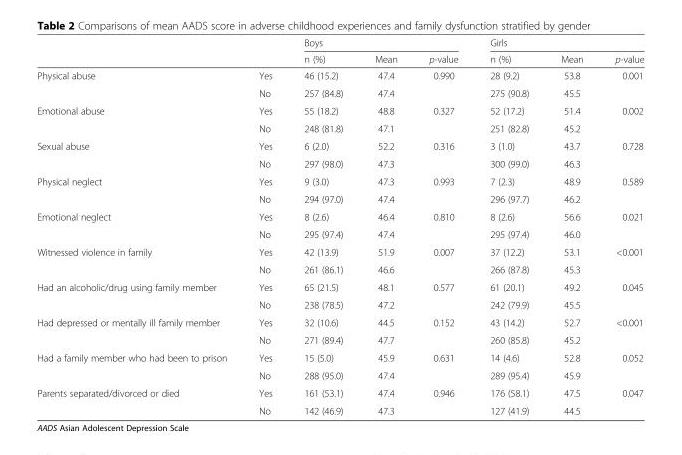table: (36, 36, 643, 415)
table column: (36, 36, 242, 415), (287, 36, 358, 415), (473, 36, 544, 415), (412, 36, 473, 415), (358, 36, 412, 415), (544, 36, 598, 415), (242, 36, 287, 415), (598, 36, 643, 415)
table column header: (36, 36, 643, 66)
table row: (36, 66, 643, 84), (36, 101, 643, 119), (36, 136, 643, 154), (36, 154, 643, 172), (36, 189, 643, 207), (36, 207, 643, 225), (36, 242, 643, 260), (36, 260, 643, 278), (36, 295, 643, 313), (36, 330, 643, 348), (36, 348, 643, 366), (36, 383, 643, 401), (36, 84, 643, 101), (36, 119, 643, 136), (36, 172, 643, 189), (36, 225, 643, 242), (36, 278, 643, 295), (36, 313, 643, 330), (36, 366, 643, 383), (36, 50, 643, 66), (36, 36, 643, 50), (36, 401, 643, 415)
table spanning cell: (36, 136, 242, 172), (36, 242, 242, 278), (36, 66, 242, 101), (36, 101, 242, 136), (36, 172, 242, 207), (36, 207, 242, 242), (36, 278, 242, 313), (36, 313, 242, 348), (36, 348, 242, 383), (36, 383, 242, 415), (287, 36, 473, 50), (473, 36, 643, 50)
